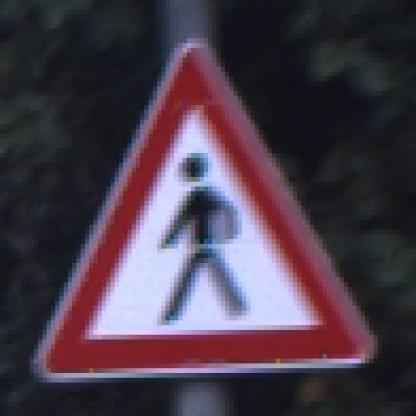crosswalk: (37, 30, 385, 404)
